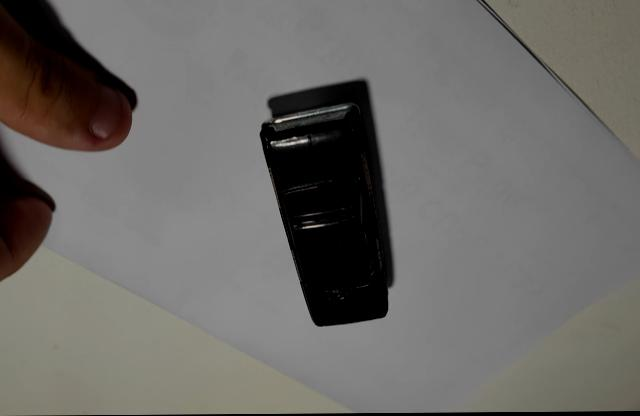01_FORD: (259, 101, 392, 327)
